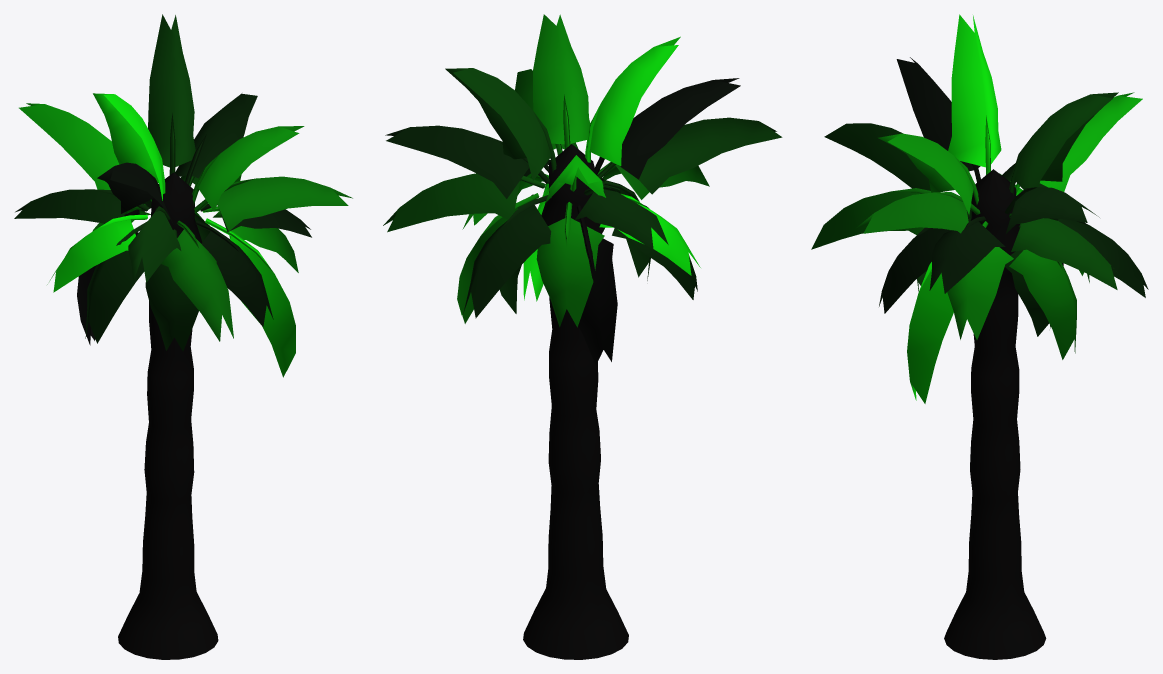
File: M_P10_Tree_1.fbx
3 renders of one model, left to right at view 1: azimuth 30°, elevation 25°; view 2: azimuth 150°, elevation 25°; view 3: azimuth 270°, elevation 25°, orthographic. The views are drawn at different scales.
Visible parts, largest first — view 1: Palm_1_1; view 2: Palm_1_1; view 3: Palm_1_1.
Boxes of the visible parts, x1=… form: Palm_1_1: x1=14, y1=14, x2=352, y2=659; Palm_1_1: x1=383, y1=14, x2=782, y2=659; Palm_1_1: x1=811, y1=14, x2=1148, y2=659.
Bounding box in the file's own units: 249 × 535 × 281.
